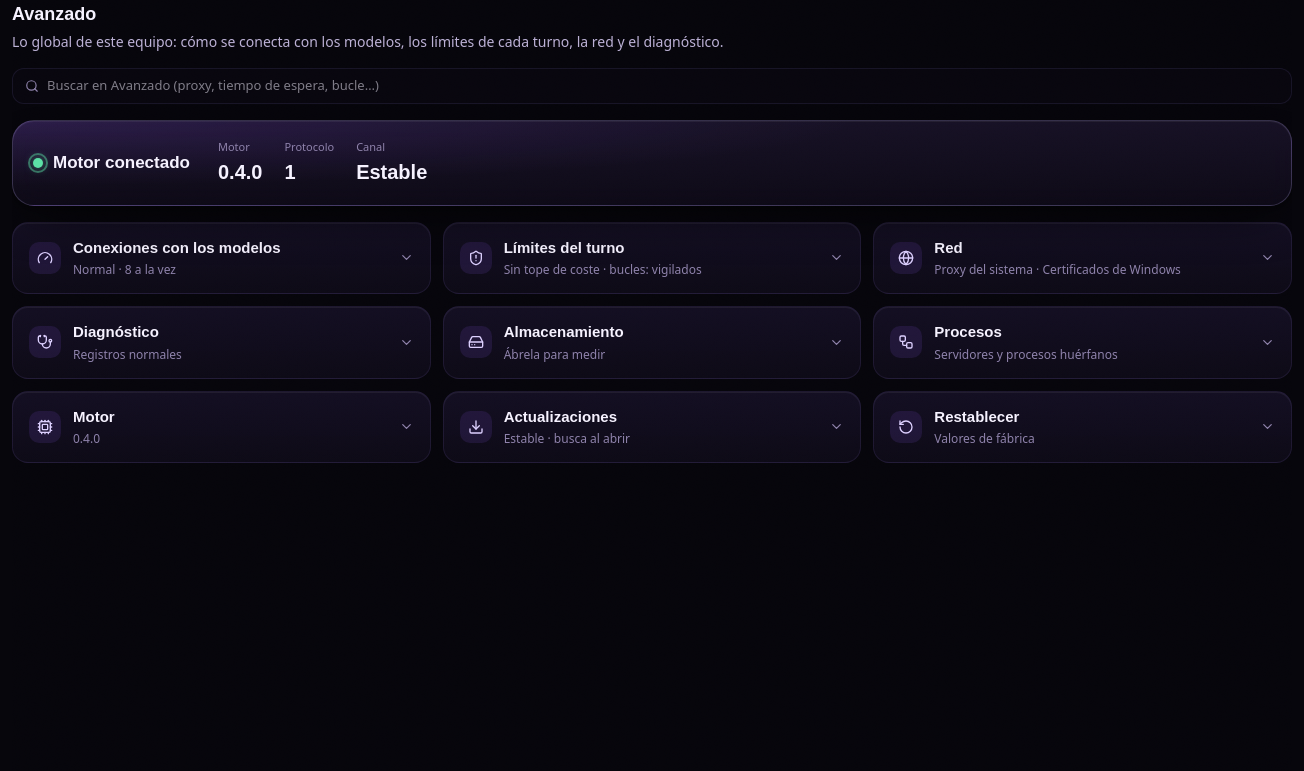
a preset writes the four timeouts; «Normal» puts the defaults back
Click the button "Conexiones con los modelos Normal · 8 a la vez".
click(221, 258)  # box [13,222,430,293]
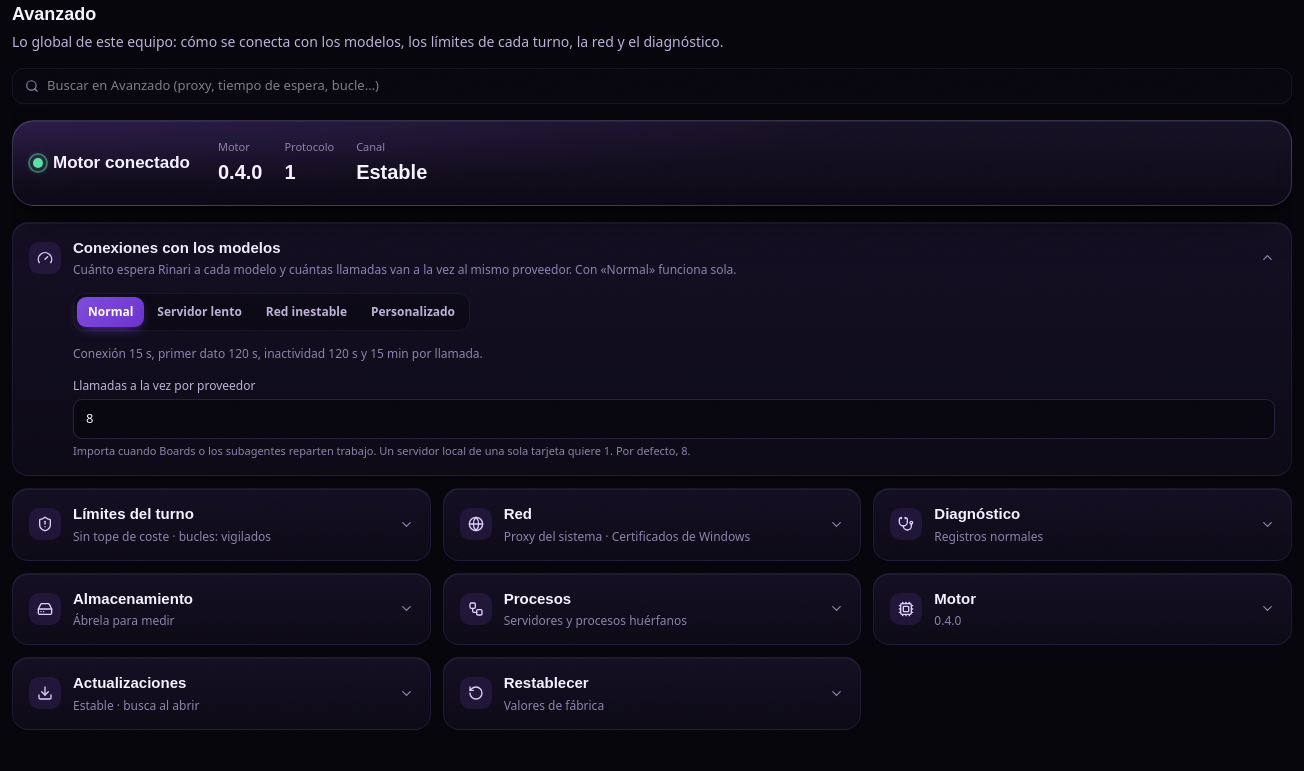
Click the tab "Servidor lento".
click(200, 312)  # box [146,297,253,327]
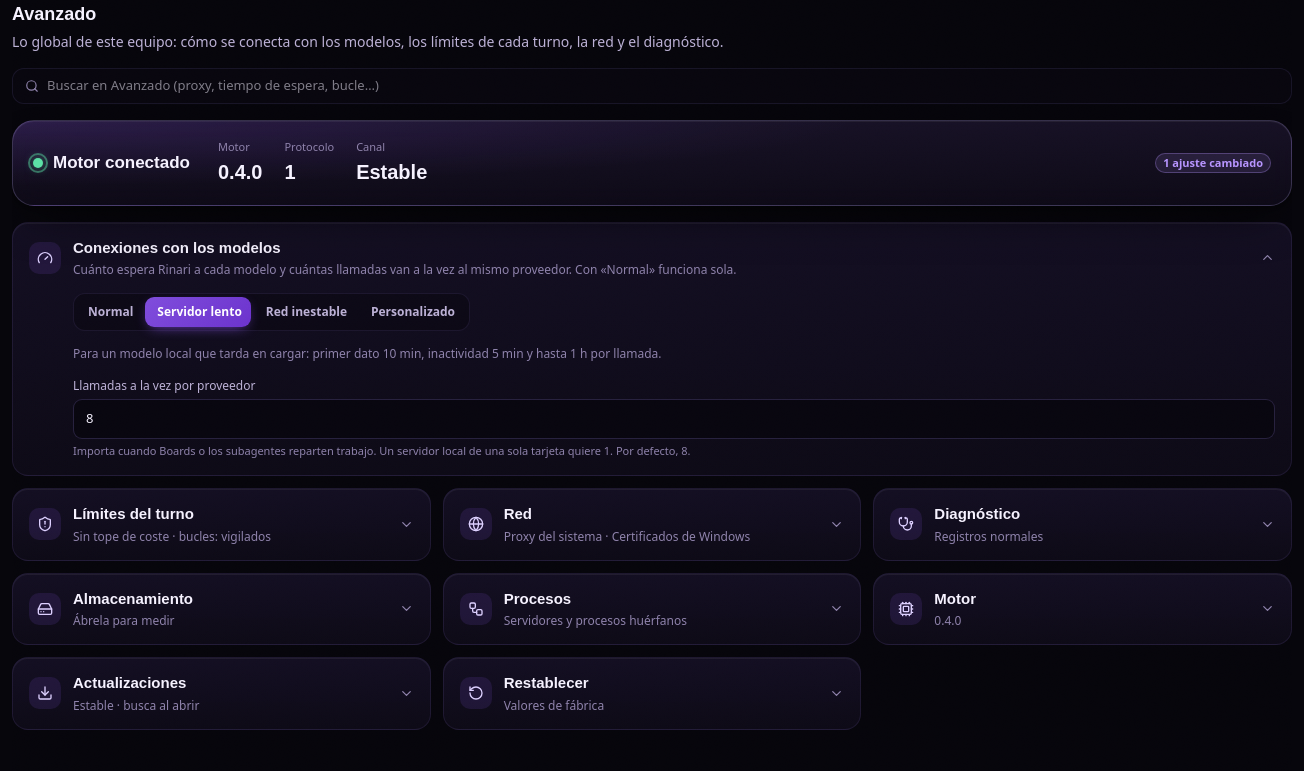
Click the tab "Normal".
click(111, 312)  # box [77,297,144,327]
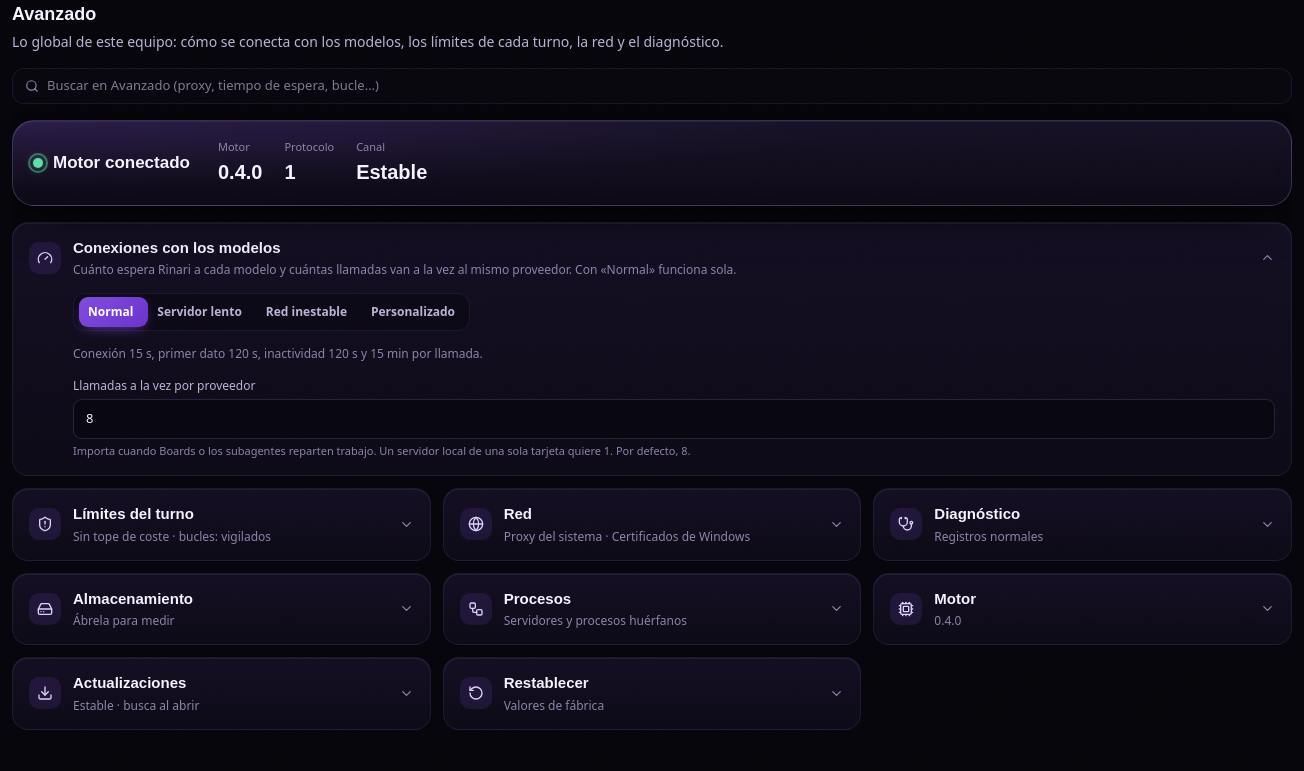
Click the tab "Personalizado".
click(413, 312)  # box [360,297,466,327]
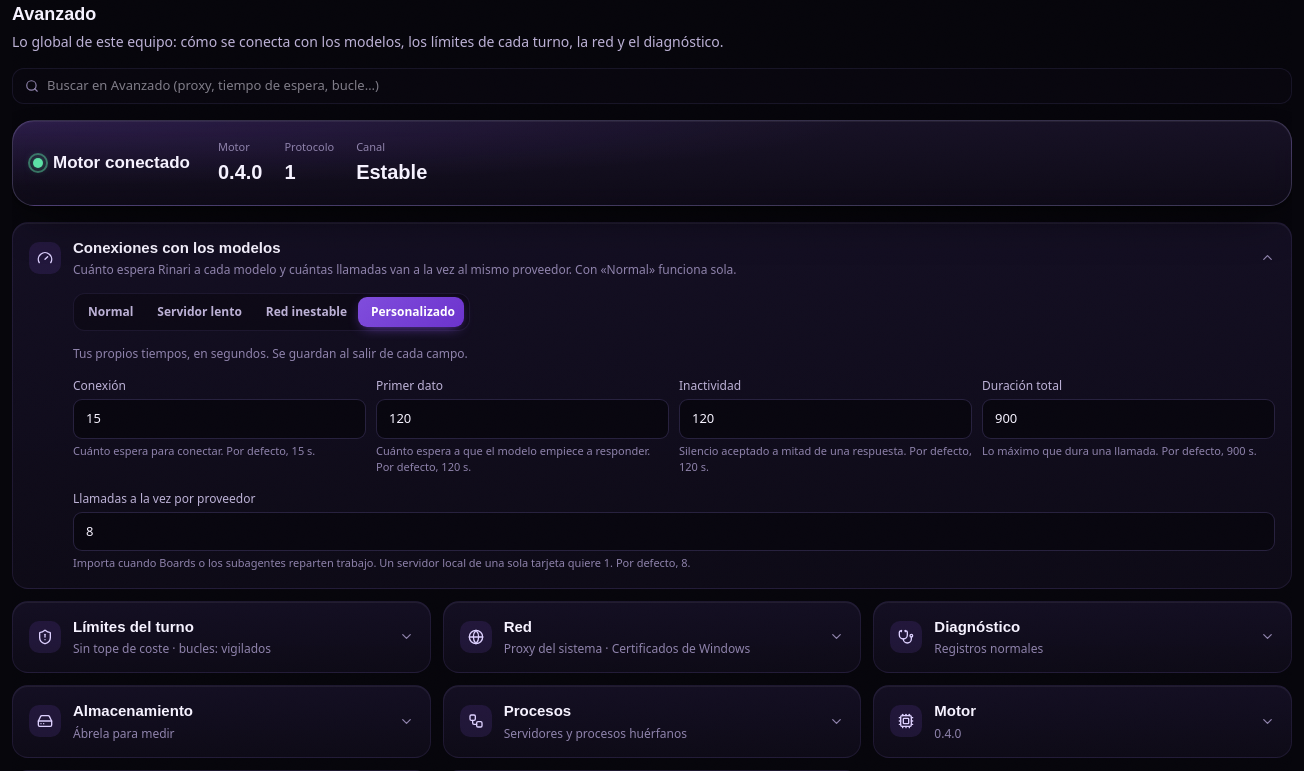
Now the number field labelled "Primer dato" holds "120", box [376,399,669,438]
